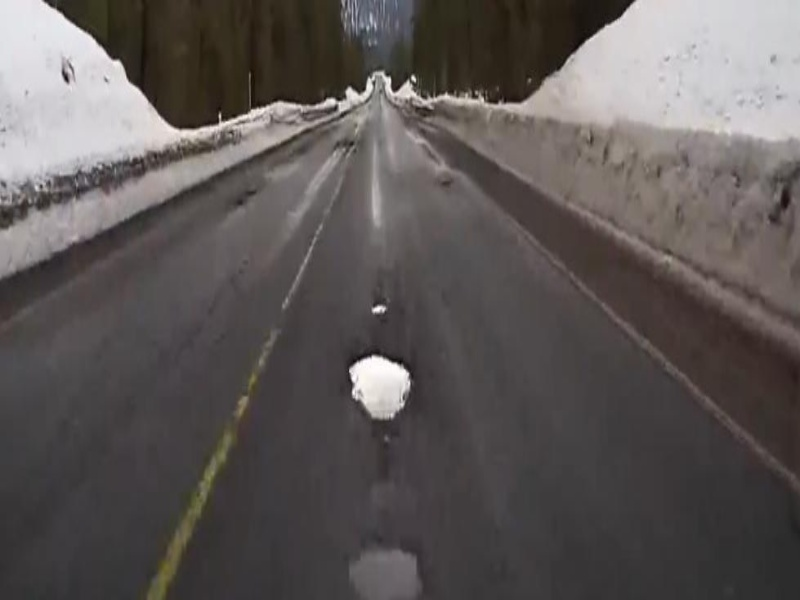pothole: (343, 346, 416, 425), (343, 542, 429, 600)
